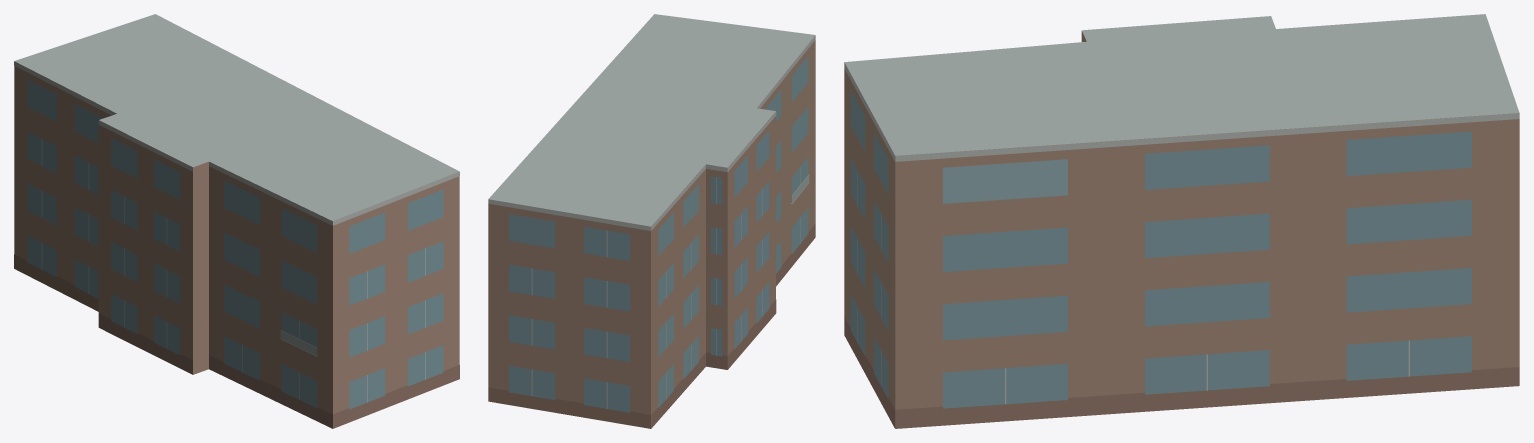
Rendered from survey-upis-33038444.glb.
The picture shows the model from 3 angles, left to right: view 1: azimuth 30°, elevation 25°; view 2: azimuth 150°, elevation 25°; view 3: azimuth 270°, elevation 25°; orthographic projection. The views are drawn at different scales.
Parts seen in each view (by area): view 1: survey-upis-33038444.tmp; view 2: survey-upis-33038444.tmp; view 3: survey-upis-33038444.tmp.
Boxes of the visible parts, x1,y1,x2,y2 form: survey-upis-33038444.tmp: [14, 14, 459, 428]; survey-upis-33038444.tmp: [488, 14, 815, 428]; survey-upis-33038444.tmp: [844, 14, 1519, 428].
Bounding box in the file's own units: 12.38 × 11.1 × 24.89.
